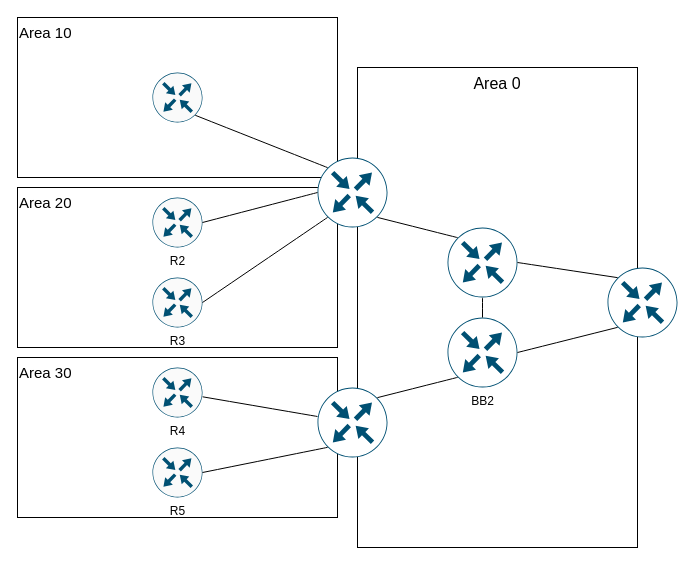
Some shapes in this 695 by 565 pixel diagram are drawn without their labels. Each missing label, with the centre of its shape:
"ABR1" belongs at point 352,192.
"ABR2" belongs at point 352,422.
"ASBR1" belongs at point 642,302.
"BB1" belongs at point 482,262.
"R1" belongs at point 177,97.
